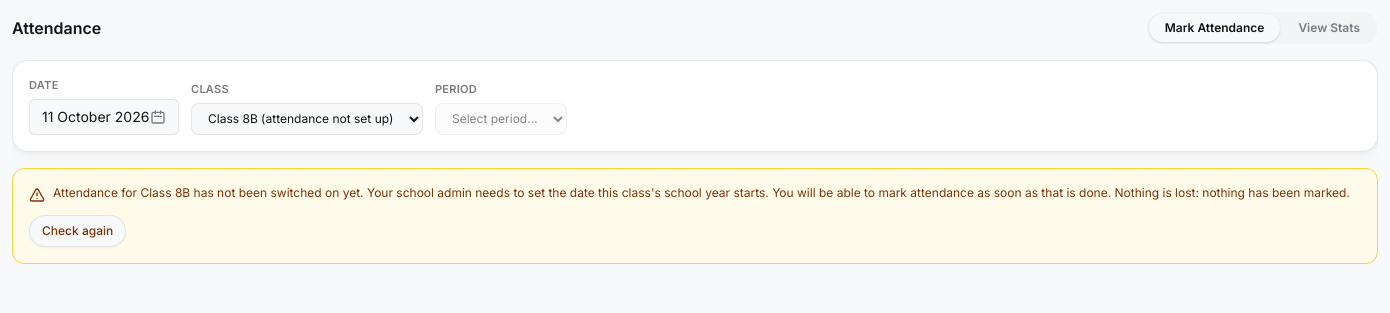
TeacherAttendancePanel: a class with no school year start date › C6b: when the re-read still says no date, the card stays and says so
The image size is (1390, 313).
Click the button "Check again".
click(78, 231)  # box [29, 215, 126, 247]
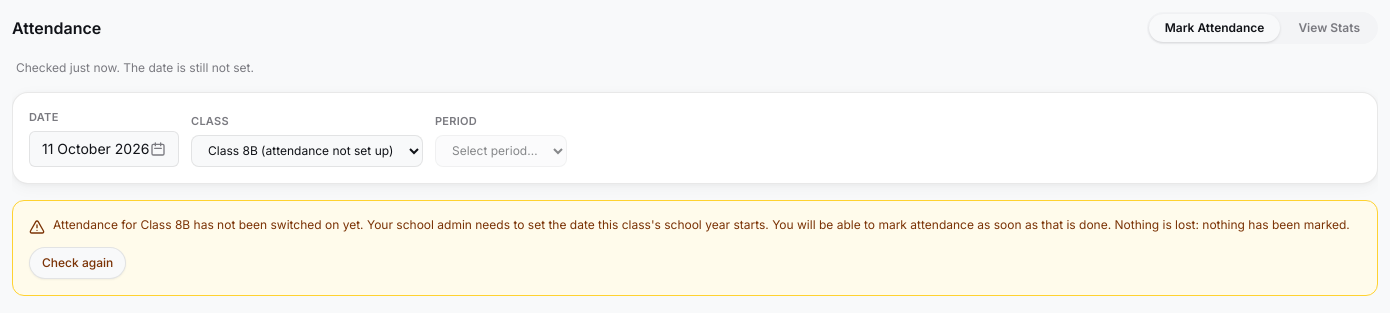
Expected: the message shows "Attendance for Class 8B has not been switched on yet. Your school admin needs to set the date this class's school year starts. You will be able to mark attendan", [53, 217, 1350, 232]
Now the text "Checked just now. The date is still not set." is shown, box [16, 60, 254, 75]
